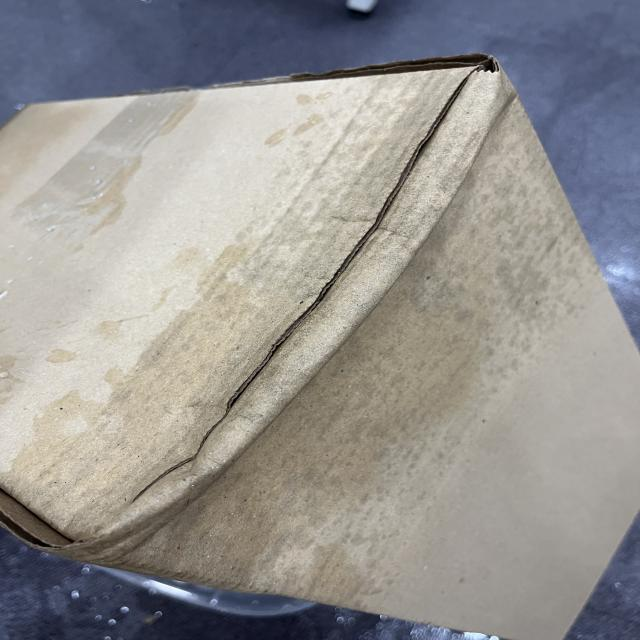wet: (51, 366, 386, 578), (315, 56, 557, 324)
